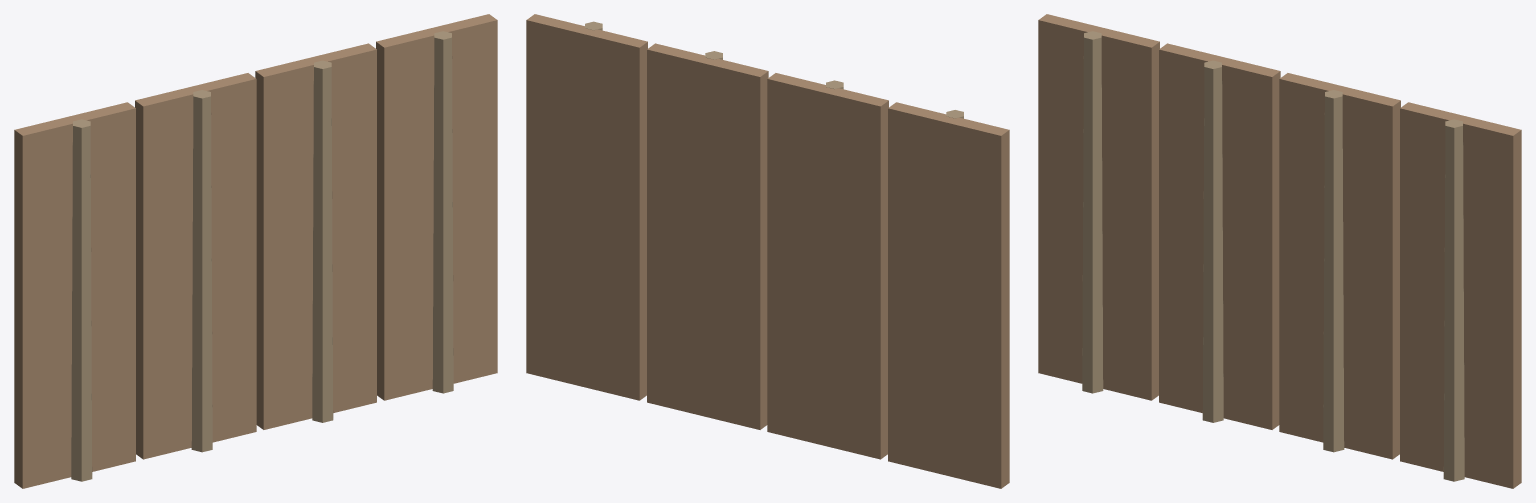
Rendered from trench-line-1917-revetment-corrugated-21661948__24038.glb.
The picture shows the model from 3 angles, left to right: view 1: azimuth 30°, elevation 25°; view 2: azimuth 150°, elevation 25°; view 3: azimuth 330°, elevation 25°; orthographic projection.
Parts seen in each view (by area): view 1: revetment-corrugated; view 2: revetment-corrugated; view 3: revetment-corrugated.
Boxes of the visible parts, x1,y1,x2,y2 form: revetment-corrugated: (14, 14, 497, 488); revetment-corrugated: (526, 14, 1009, 488); revetment-corrugated: (1038, 14, 1521, 488).
Bounding box in the file's own units: 2.95 × 2.1 × 0.1711.
